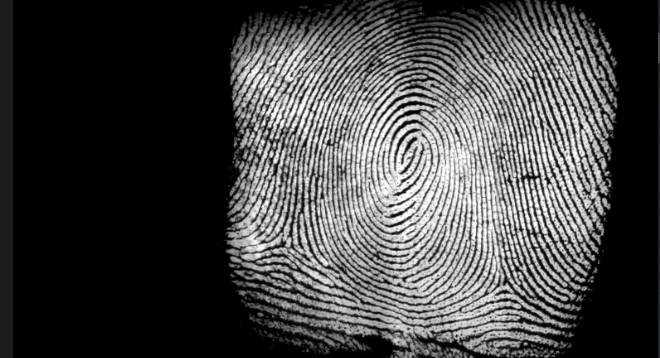nucelo: (394, 127, 426, 178)
verticilo: (268, 221, 303, 252), (488, 269, 521, 299)
